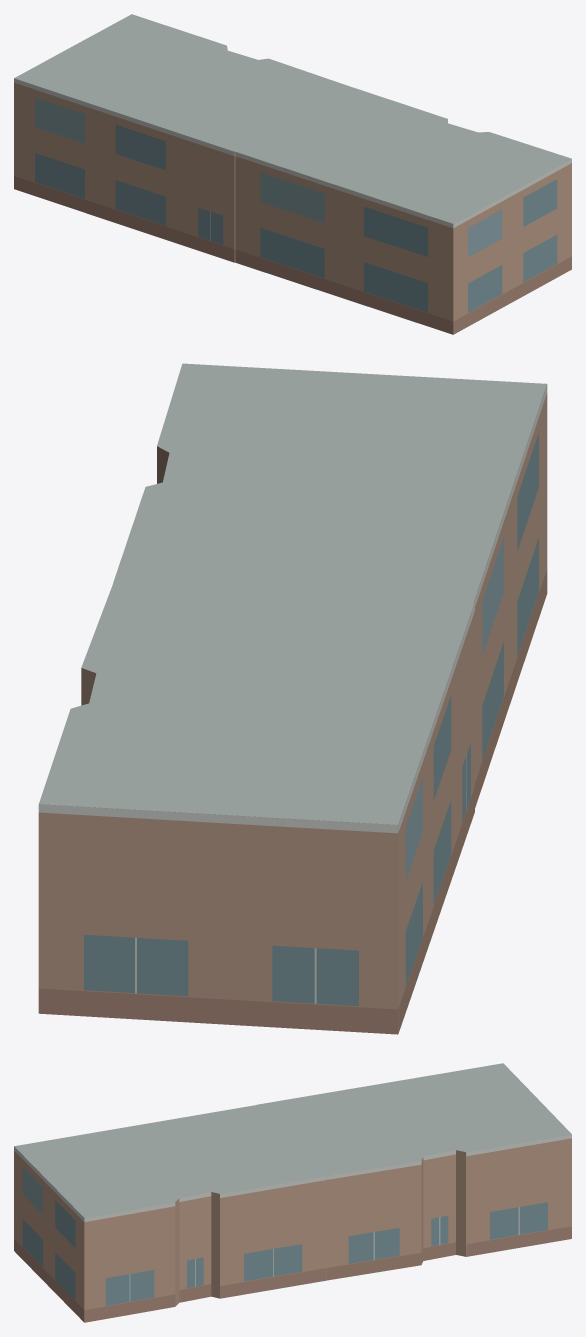
File: survey-upis-32750858.glb
3 renders of one model, top to bottom at view 1: azimuth 30°, elevation 25°; view 2: azimuth 150°, elevation 25°; view 3: azimuth 270°, elevation 25°, orthographic. The views are drawn at different scales.
Parts seen in each view (by area): view 1: survey-upis-32750858.tmp; view 2: survey-upis-32750858.tmp; view 3: survey-upis-32750858.tmp.
Boxes of the visible parts, bbox=[...] form: survey-upis-32750858.tmp: bbox=[14, 14, 571, 334]; survey-upis-32750858.tmp: bbox=[38, 363, 547, 1034]; survey-upis-32750858.tmp: bbox=[14, 1063, 571, 1322].
Size of the model in its own units: 19.35 by 6.1 by 29.46.
